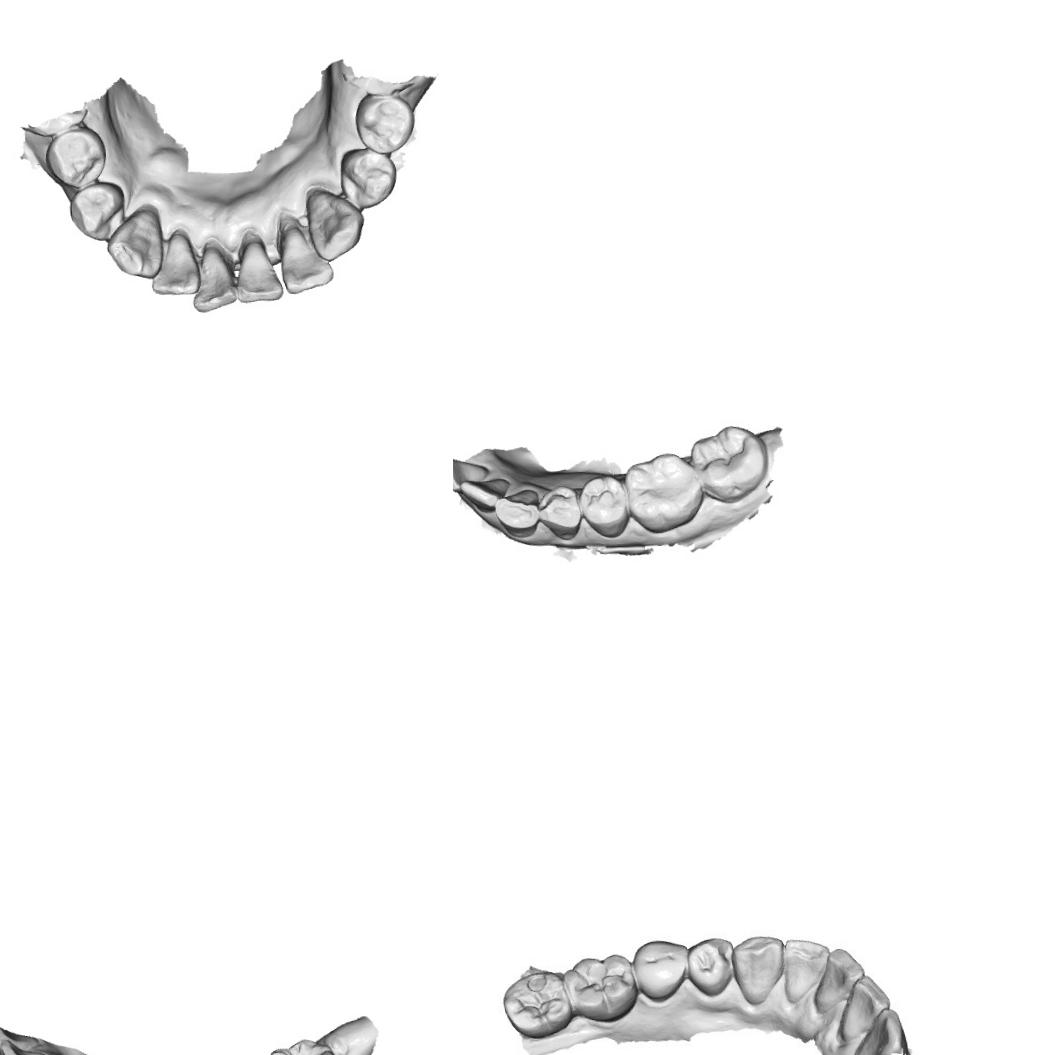canine: (303, 186, 365, 261), (727, 930, 786, 1007), (106, 208, 166, 280), (492, 487, 544, 538)
incisor: (279, 222, 335, 296), (836, 973, 892, 1045), (810, 944, 864, 1016), (147, 228, 198, 296), (189, 243, 238, 312), (778, 937, 829, 1003), (234, 238, 282, 303), (456, 475, 512, 516), (453, 451, 493, 494), (0, 1020, 42, 1051), (0, 1036, 49, 1055)
molar: (620, 449, 705, 536), (688, 421, 770, 506), (564, 950, 639, 1026), (499, 966, 573, 1040), (265, 1033, 340, 1055)
premolar: (42, 126, 109, 190), (630, 935, 689, 1005), (354, 88, 416, 154), (341, 146, 400, 208), (578, 472, 630, 540), (684, 934, 736, 1002), (66, 182, 124, 240), (536, 482, 583, 542)
